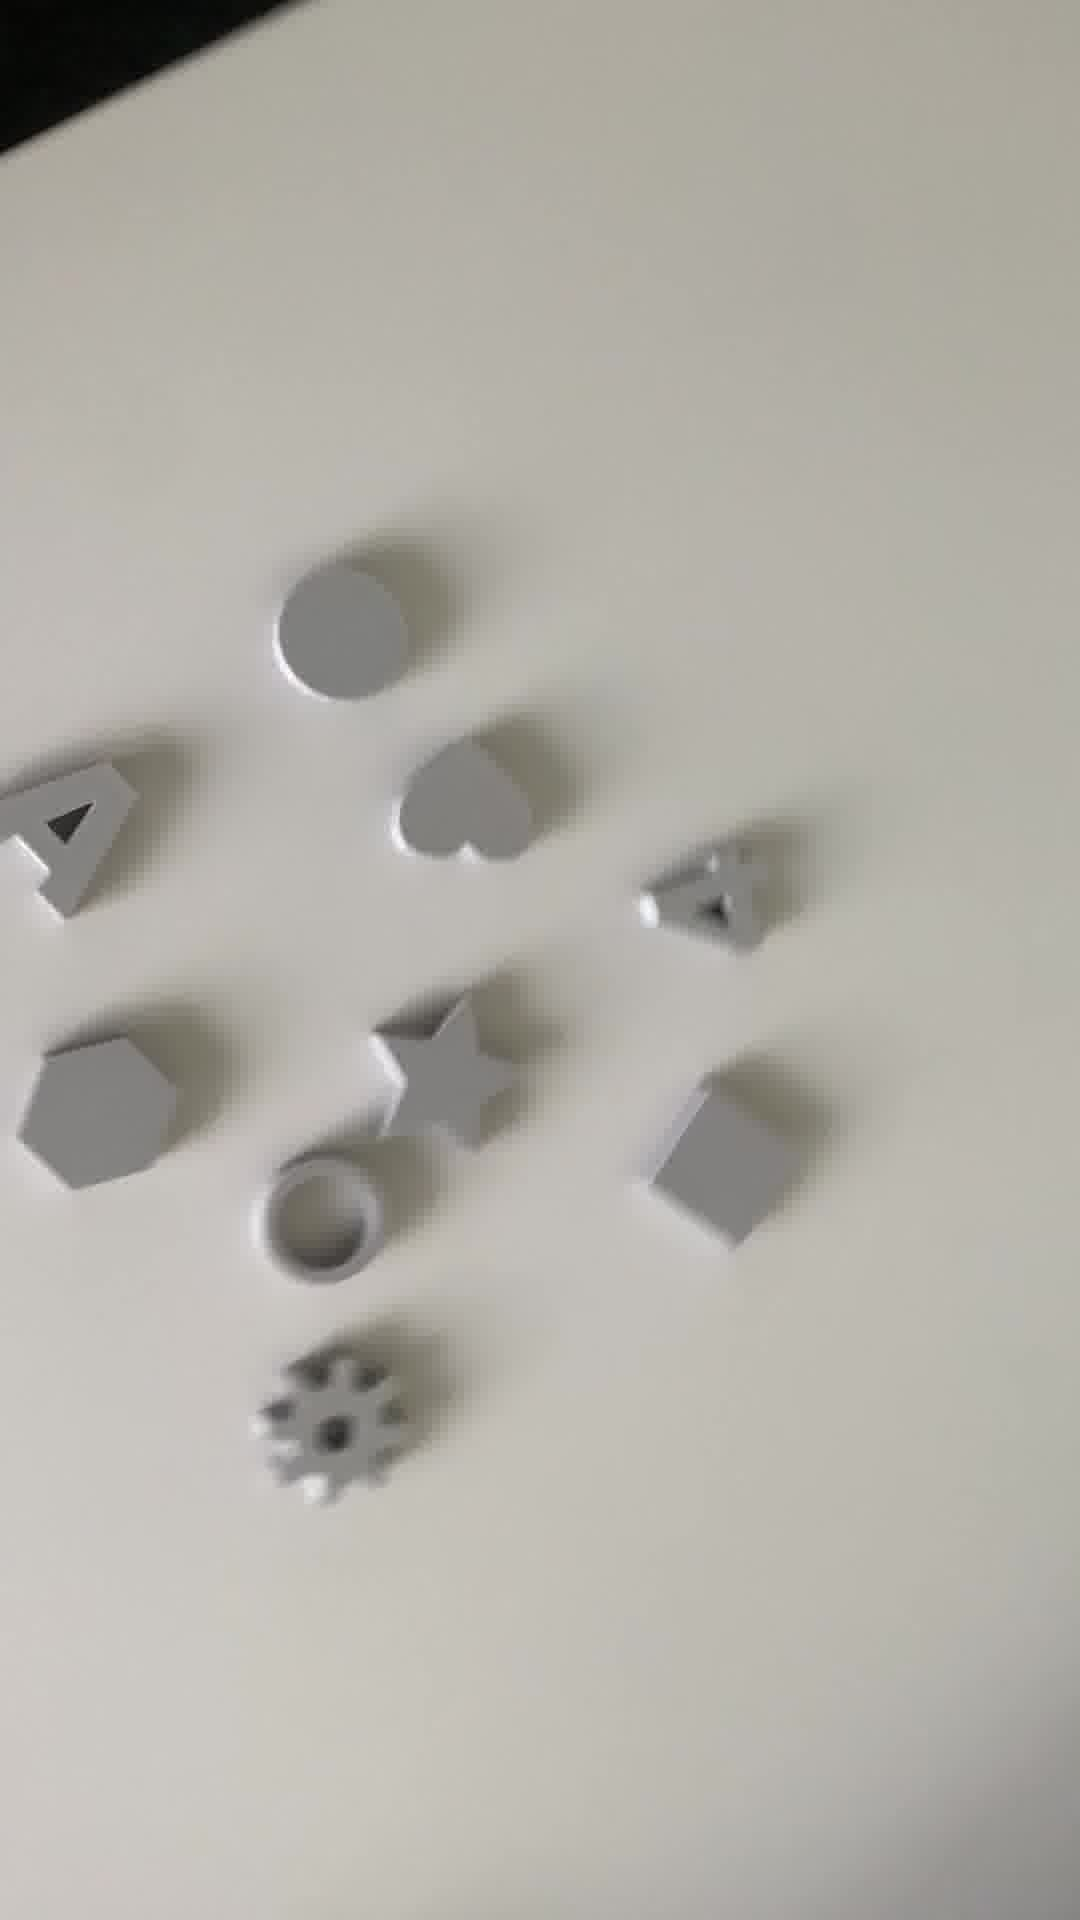Gray A-letter: (1, 760, 149, 920)
Gray circle: (276, 560, 411, 712)
Gray four: (637, 840, 781, 957)
Gray gear: (248, 1356, 407, 1522)
Gray heart: (392, 736, 537, 869)
Gray hexagon: (15, 1029, 179, 1207)
Gray ring: (255, 1154, 375, 1284)
Gray square: (636, 1085, 806, 1255)
Gray star: (365, 982, 539, 1160)
